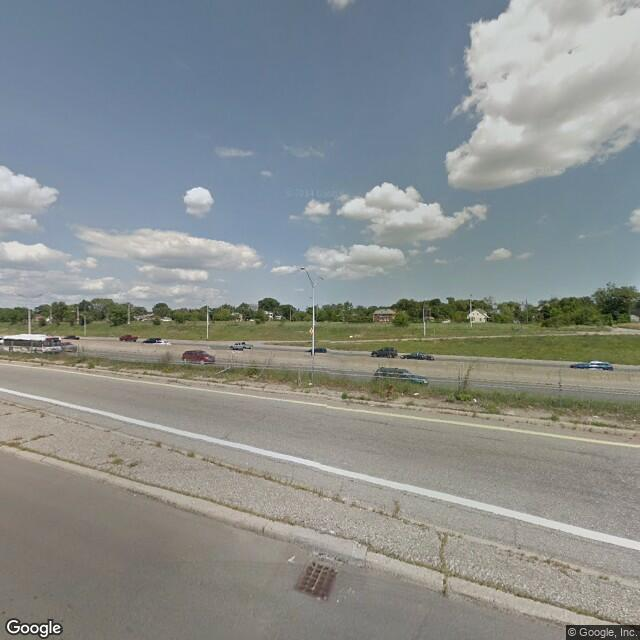litter: (591, 411, 601, 420), (412, 389, 420, 398), (306, 378, 313, 387), (472, 396, 477, 404)
